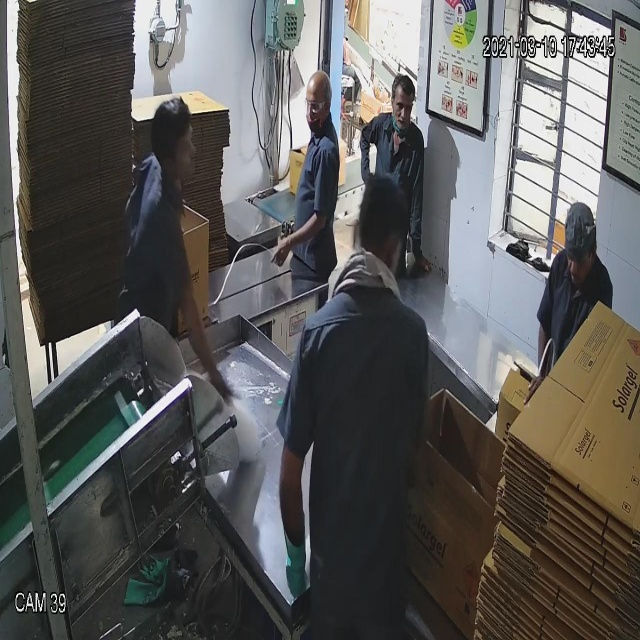Sin_guantes: (176, 277, 240, 427), (266, 207, 334, 271), (405, 174, 438, 284)
